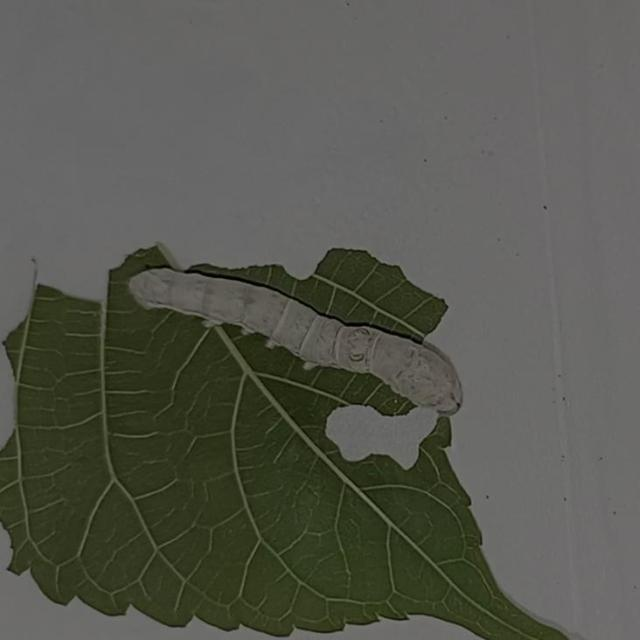Healthy: (112, 233, 474, 444)
